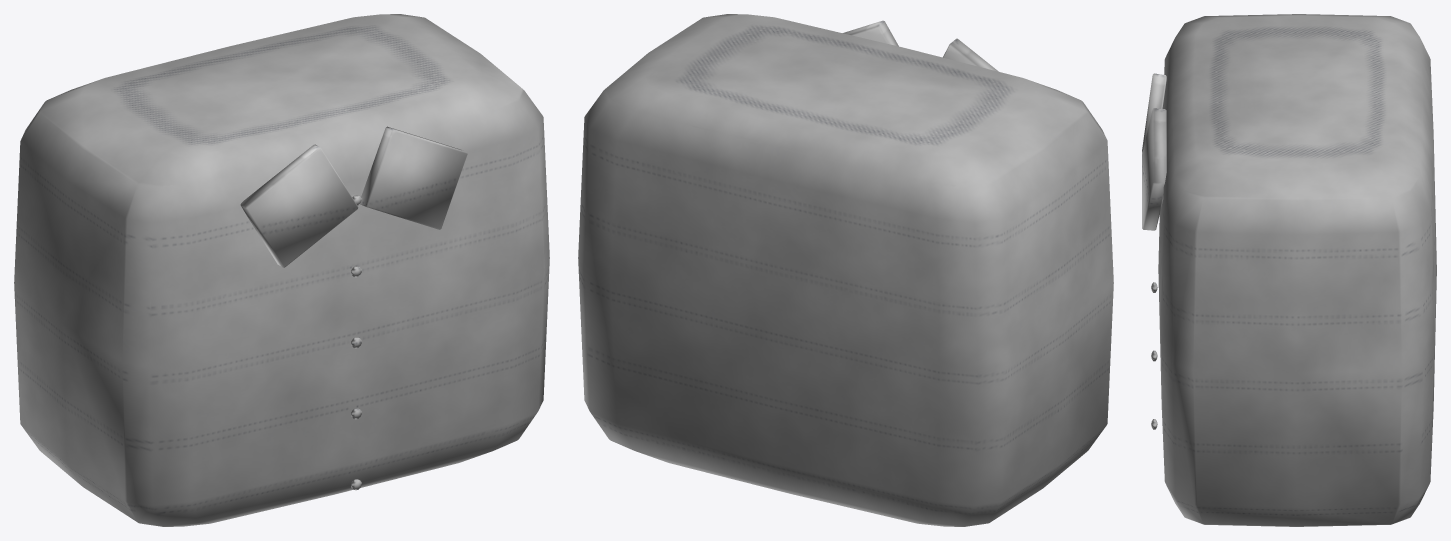
The model's file is UpperTorso_C1.fbx.
3 views of the same model, side by side, from view 1: azimuth 30°, elevation 25°; view 2: azimuth 150°, elevation 25°; view 3: azimuth 270°, elevation 25° (orthographic). The views are drawn at different scales.
Parts seen in each view (by area): view 1: Civ_CamisaCuadros_UpperTorso_C1; view 2: Civ_CamisaCuadros_UpperTorso_C1; view 3: Civ_CamisaCuadros_UpperTorso_C1.
Part boxes in pixels (box(x1,y1,x2,y2)): Civ_CamisaCuadros_UpperTorso_C1: box(14, 14, 549, 526); Civ_CamisaCuadros_UpperTorso_C1: box(578, 14, 1113, 526); Civ_CamisaCuadros_UpperTorso_C1: box(1142, 14, 1436, 526).
Size of the model in its own units: 2.19 by 1.81 by 1.33.
